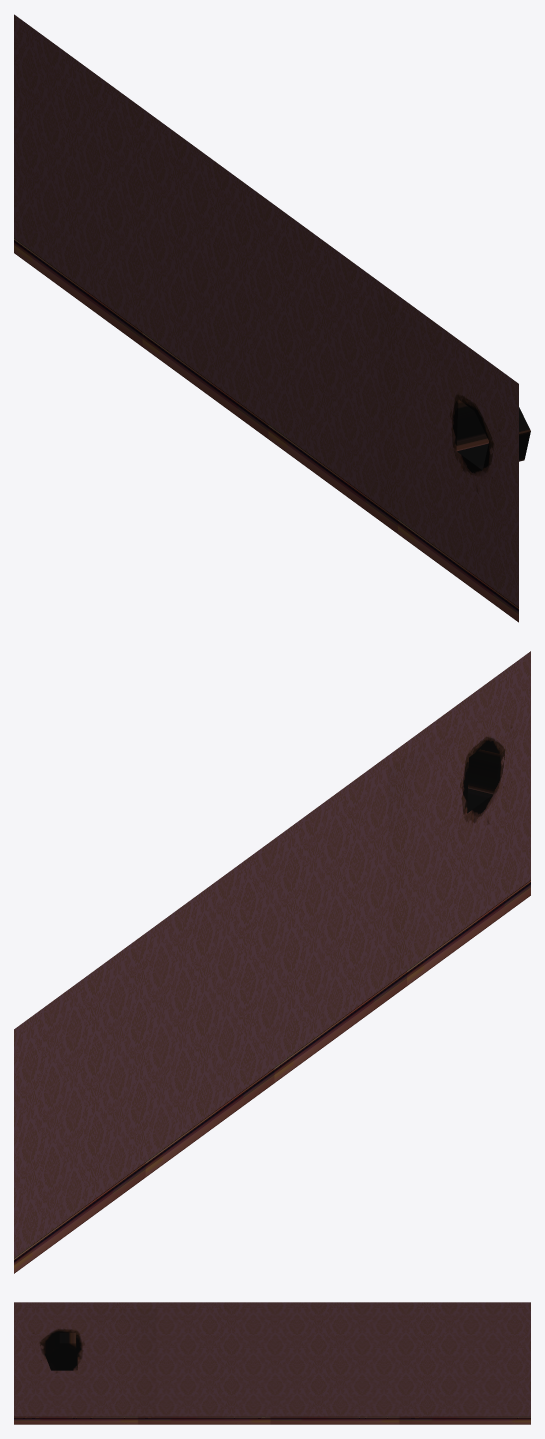
The model's file is PAST_HOLEWALLHOLE_SCALED.fbx.
3 renders of one model, top to bottom at view 1: azimuth 30°, elevation 25°; view 2: azimuth 150°, elevation 25°; view 3: azimuth 270°, elevation 25°, orthographic. The views are drawn at different scales.
Visible parts, largest first — view 1: Hole_Wall; view 2: Hole_Wall; view 3: Hole_Wall.
Part boxes in pixels (x1,y1,x2,y2): Hole_Wall: (14,14,530,622); Hole_Wall: (14,651,530,1273); Hole_Wall: (14,1302,530,1424).
Size of the model in its own units: 117 by 641 by 2456.
Materials: 1 (1 with a texture image).
